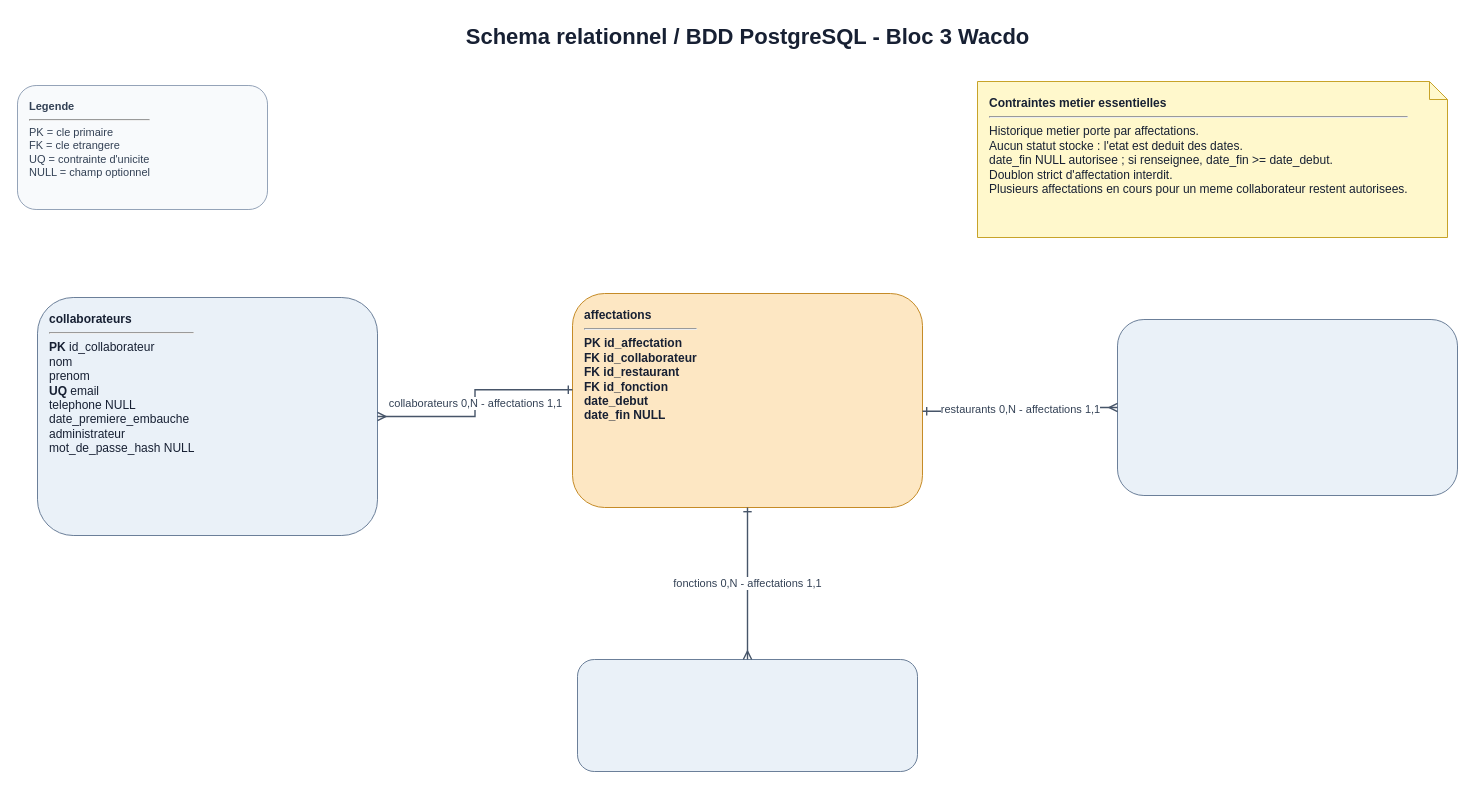
Some shapes in this 1475 by 789 pixel diagram are drawn without their labels. Here are the shapes that lost their labels. From the top down, the box of each, then its label:
(1116, 318, 1458, 496): restaurants PK id_restaurant nom adresse code_postal ville
(576, 658, 918, 772): fonctions PK id_fonction UQ intitule_poste
